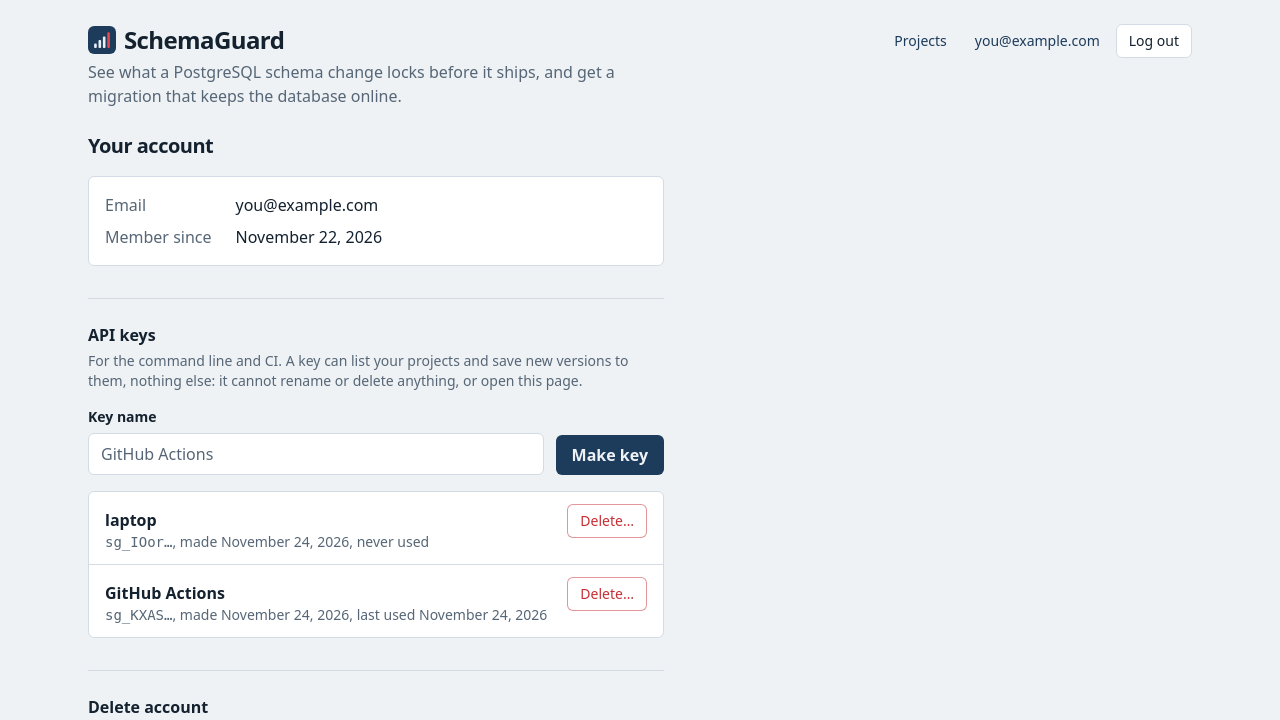
API keys › keeps a key on the list when deleting it fails, and says why
Expected: the heading "API keys" is shown, [88, 324, 156, 346]
What coordinates should you click on to do the following:
click the button "Delete…" next to "never used"
I would click on:
 (607, 521)
Its box is [567, 504, 647, 538].
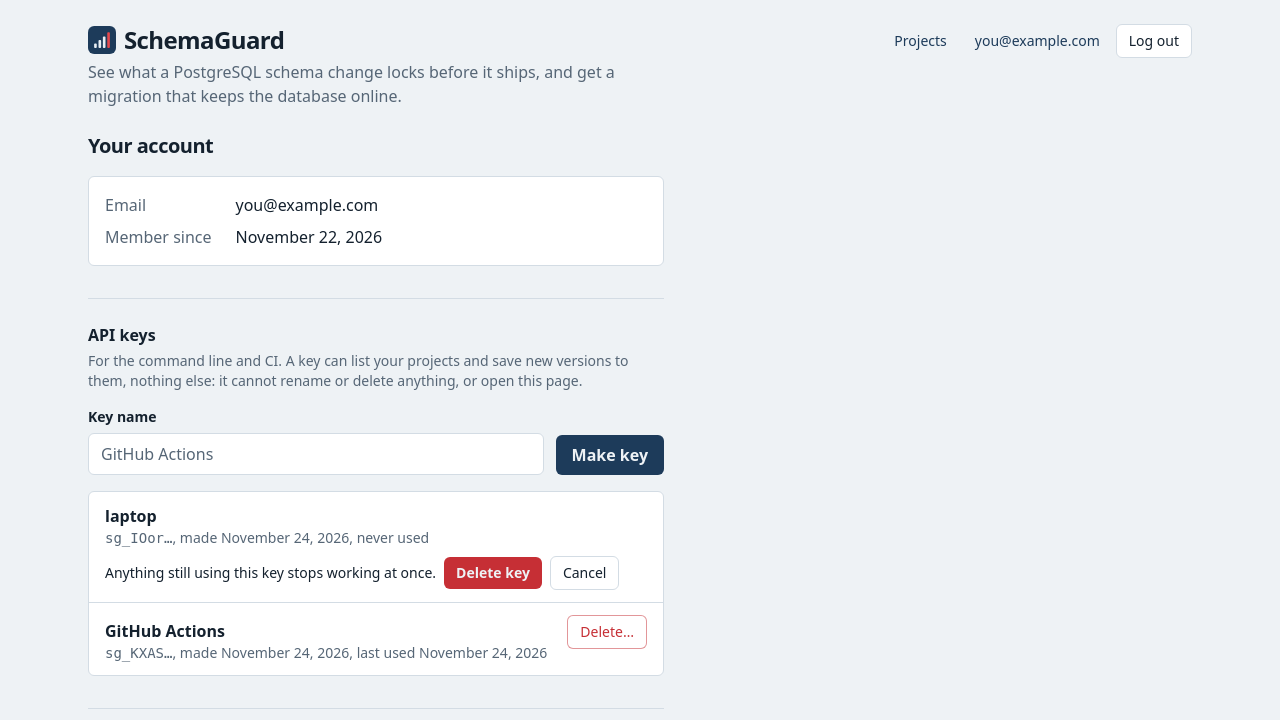
What coordinates should you click on to do the following:
click the button "Delete key"
I would click on:
 (493, 573)
Its box is [444, 557, 542, 589].
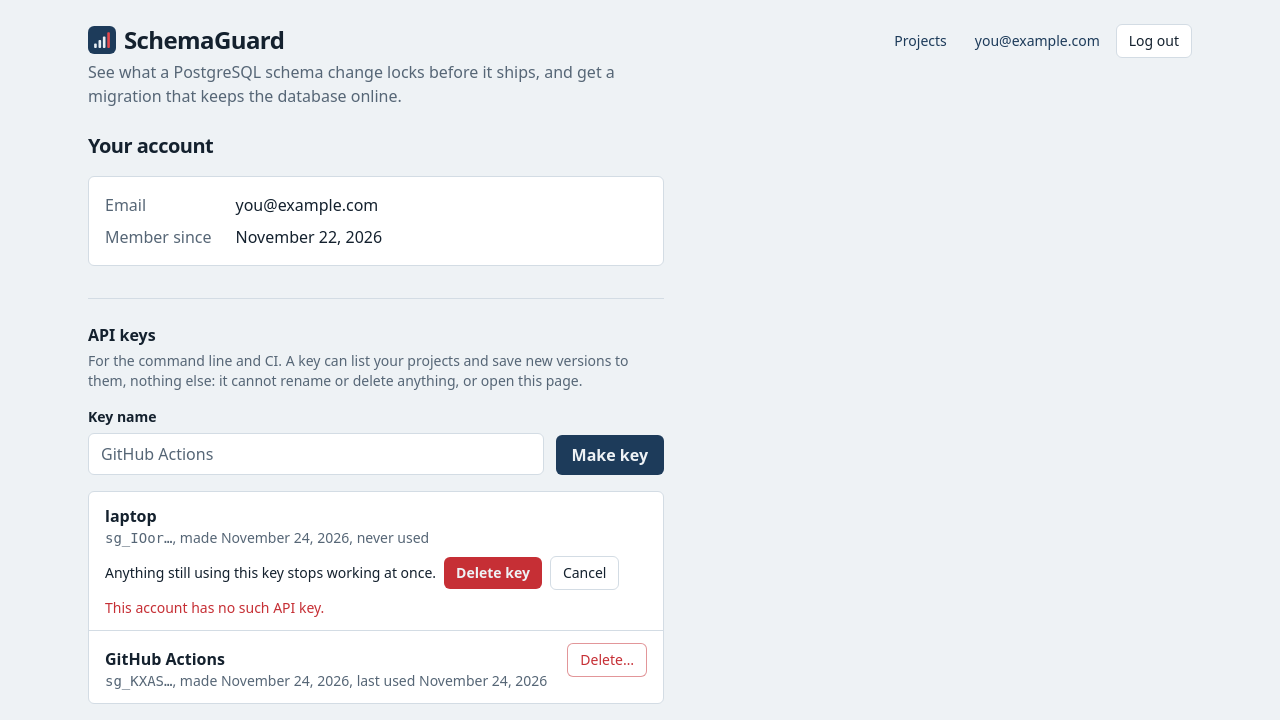
Expected: the button "Delete key" is enabled, [444, 557, 542, 589]
Expected: the message reads "This account has no such API key.", [105, 598, 324, 617]
